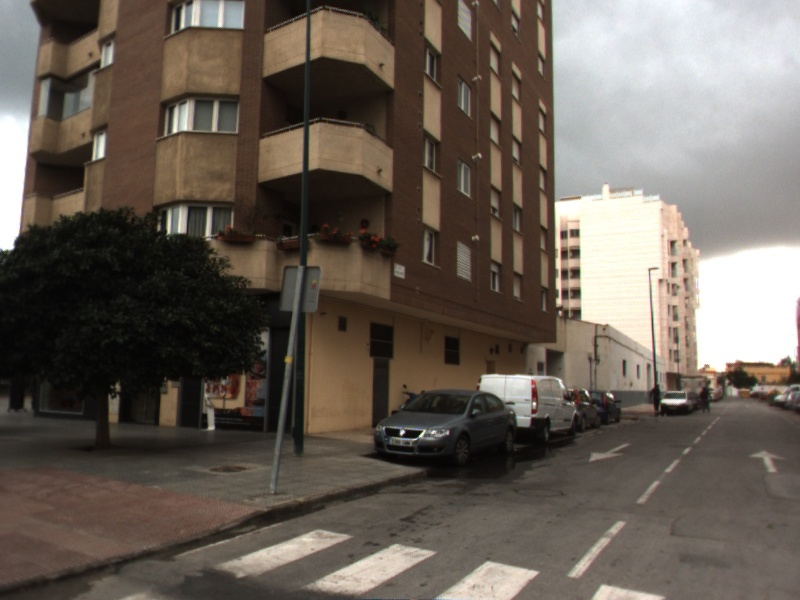STRAIGHT: (746, 447, 789, 475)
